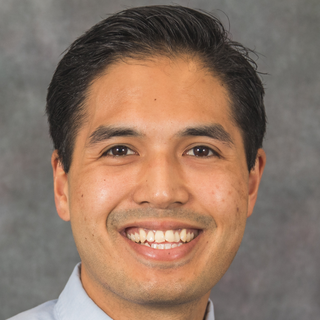eye: (95, 140, 142, 164), (178, 140, 225, 164)
